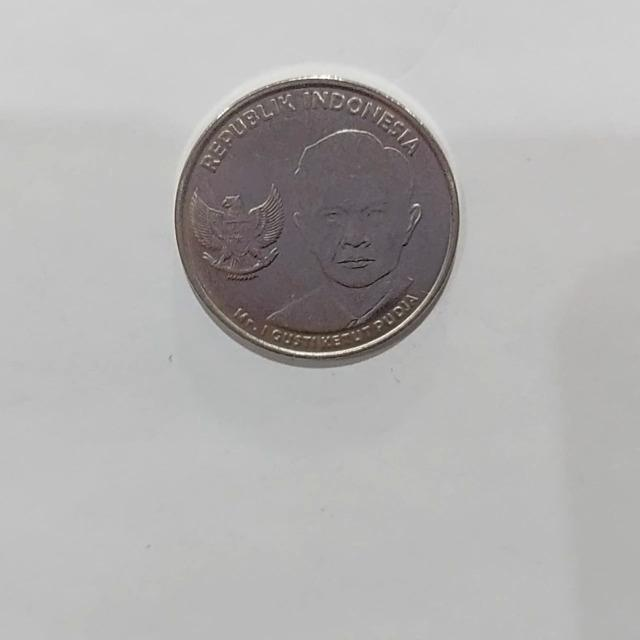Rp100: (172, 69, 461, 367)
